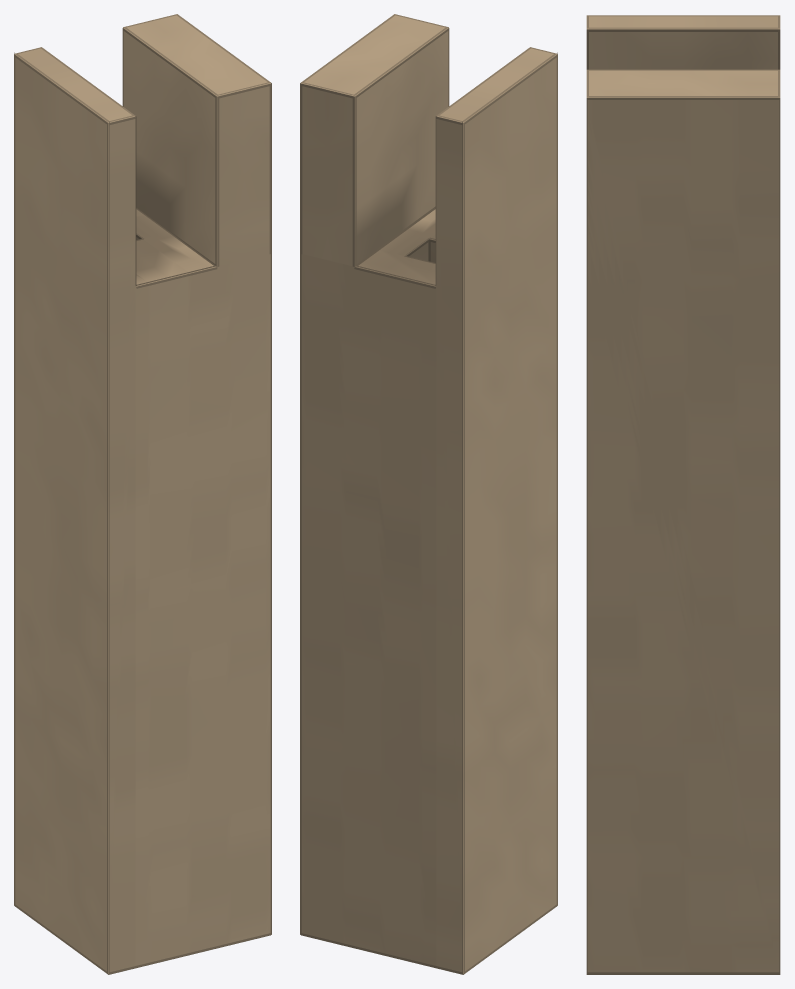
3 renders of one model, left to right at view 1: azimuth 30°, elevation 25°; view 2: azimuth 150°, elevation 25°; view 3: azimuth 270°, elevation 25°, orthographic. The views are drawn at different scales.
Parts seen in each view (by area): view 1: part-a; view 2: part-a; view 3: part-a.
Boxes of the visible parts, x1=… form: part-a: x1=14, y1=14, x2=271, y2=974; part-a: x1=300, y1=14, x2=557, y2=974; part-a: x1=586, y1=15, x2=780, y2=974.
Bounding box in the file's own units: 0.1208 × 0.6018 × 0.1208.
